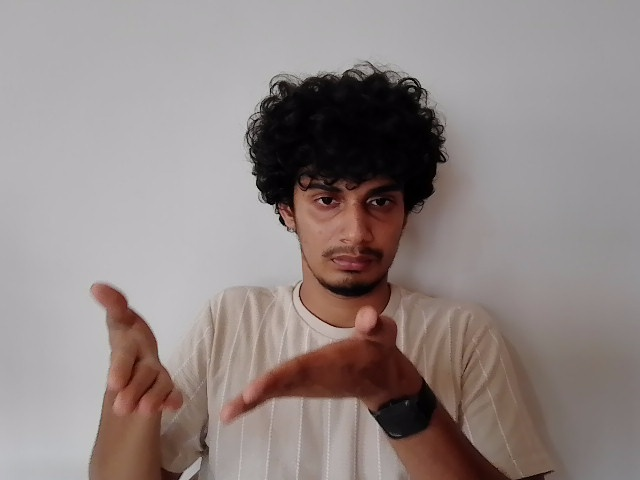here: (90, 281, 409, 417)
